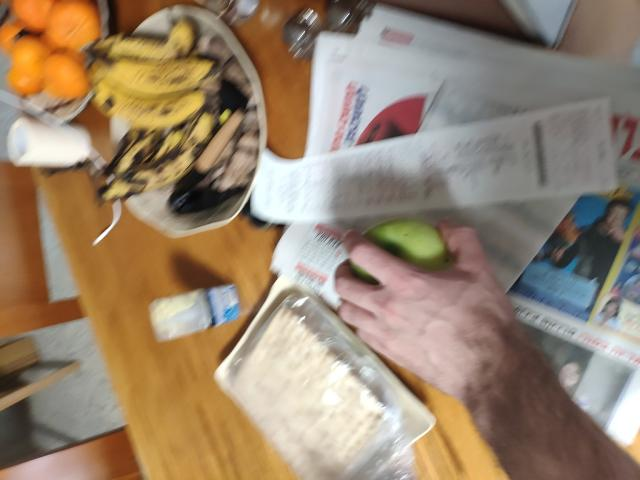apple: (349, 219, 466, 327)
